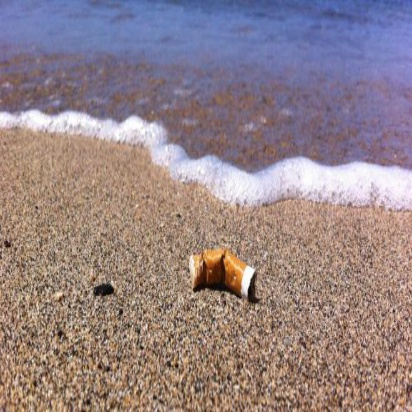cigarette: (179, 243, 272, 308)
